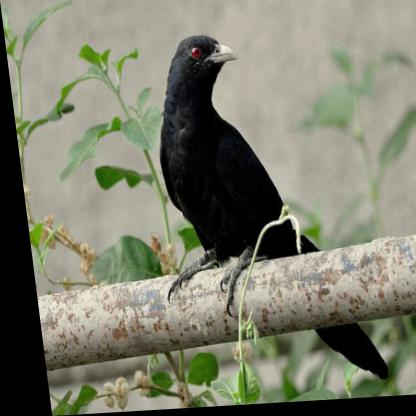Burung: (134, 31, 379, 393)
